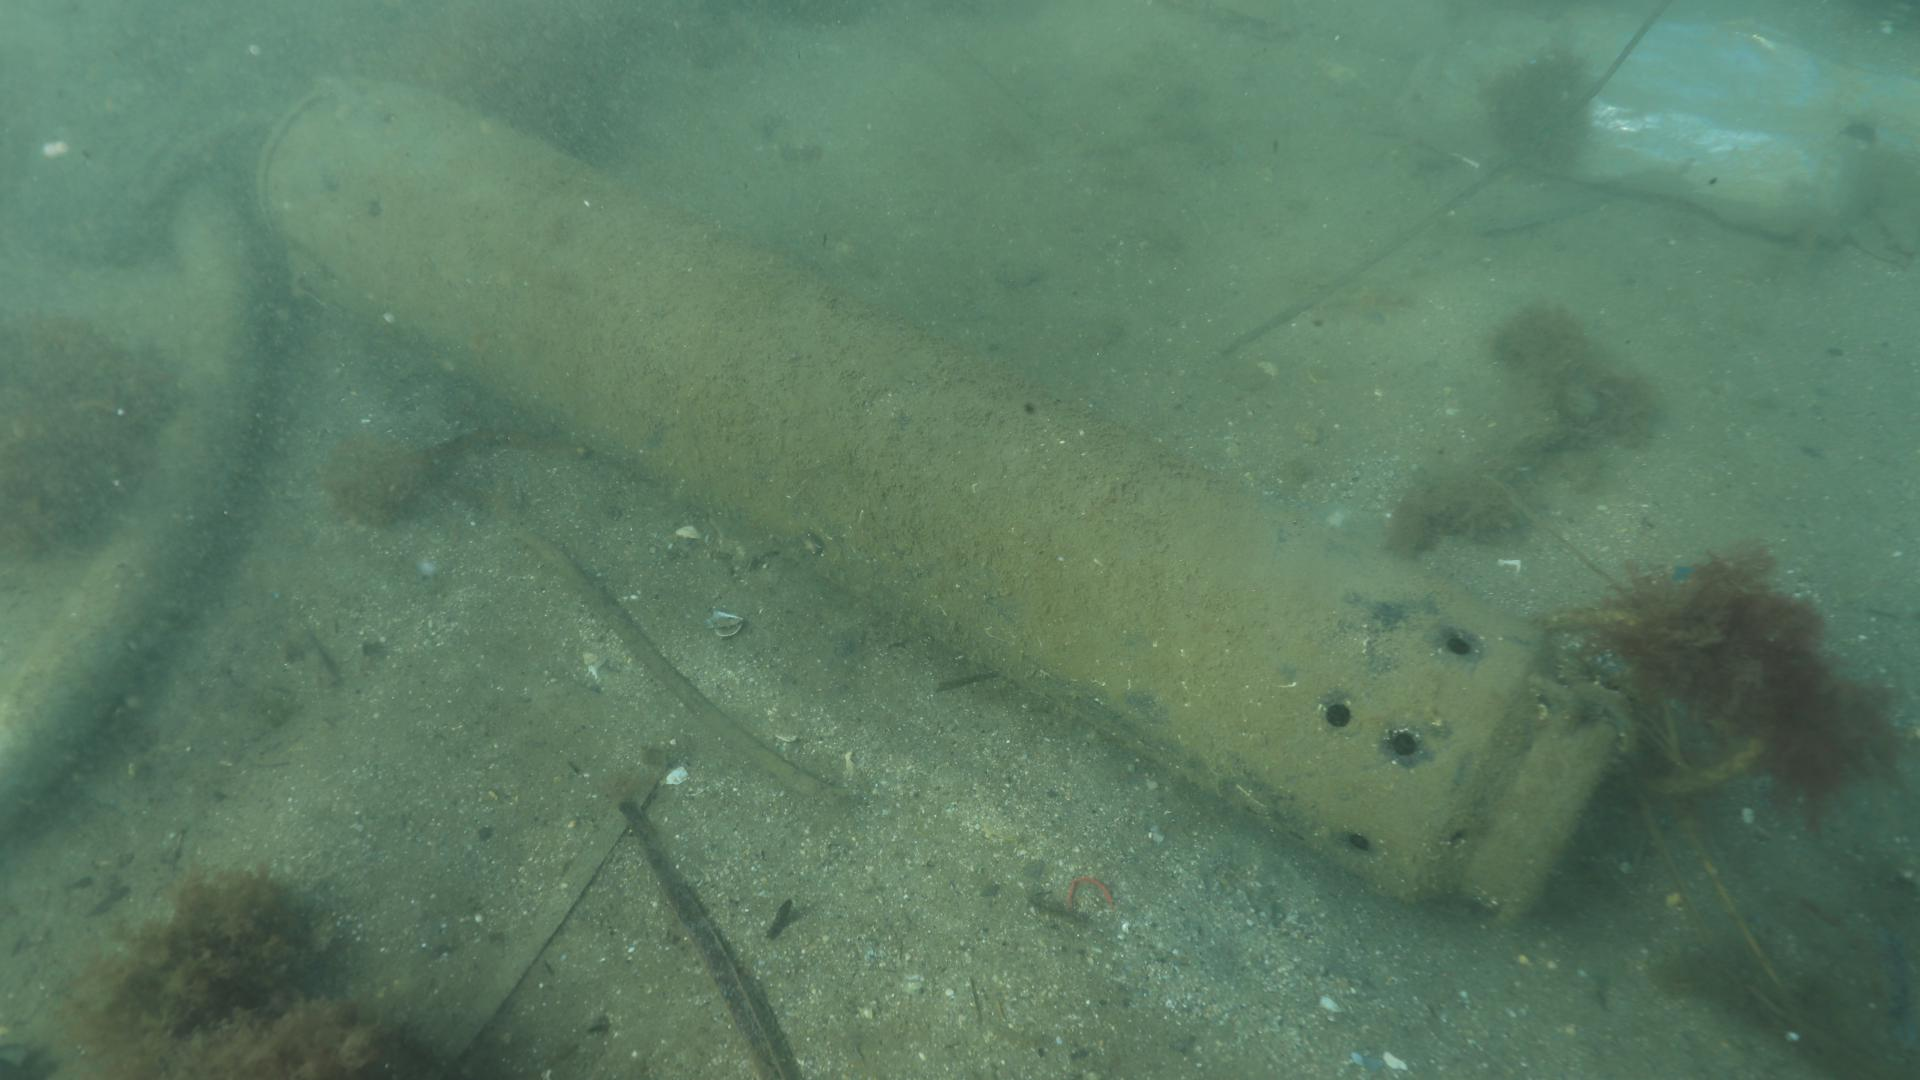eel fish trap: (255, 76, 1634, 924)
rope: (1639, 735, 1770, 800)
